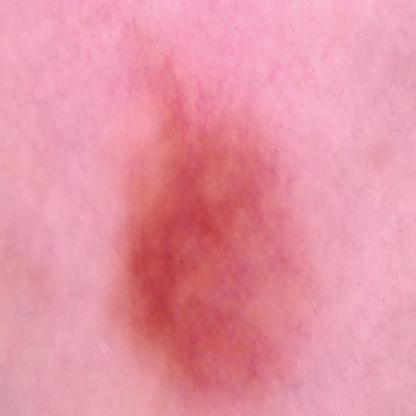benign: (110, 47, 306, 388)
